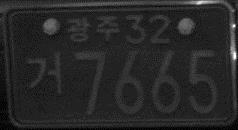2: (149, 12, 172, 46)
3: (124, 13, 146, 45)
5: (187, 47, 219, 116)
6: (113, 45, 147, 116), (149, 47, 182, 114)
7: (72, 48, 108, 117)
거: (23, 50, 65, 99)
광주_O: (66, 14, 121, 43)
